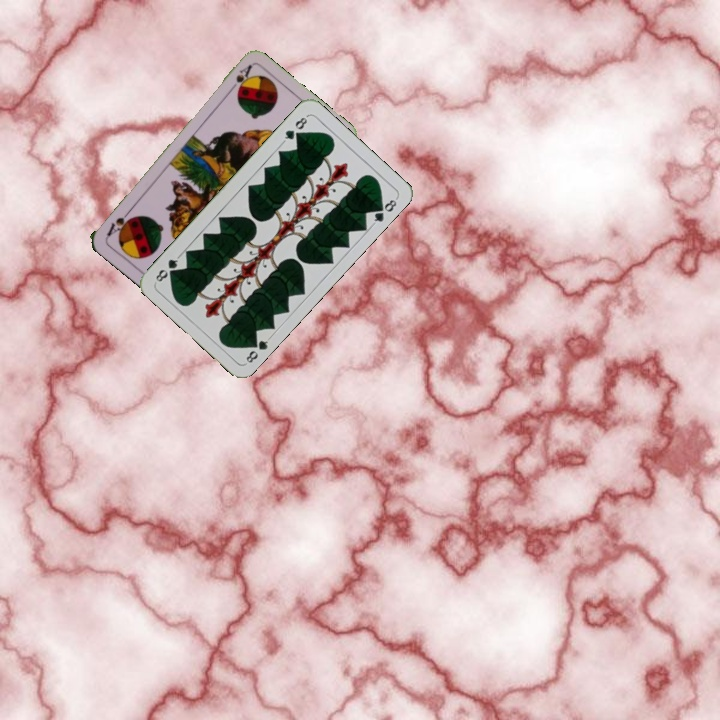G8: (279, 112, 311, 145), (242, 333, 273, 365)
SA: (224, 61, 255, 96)
